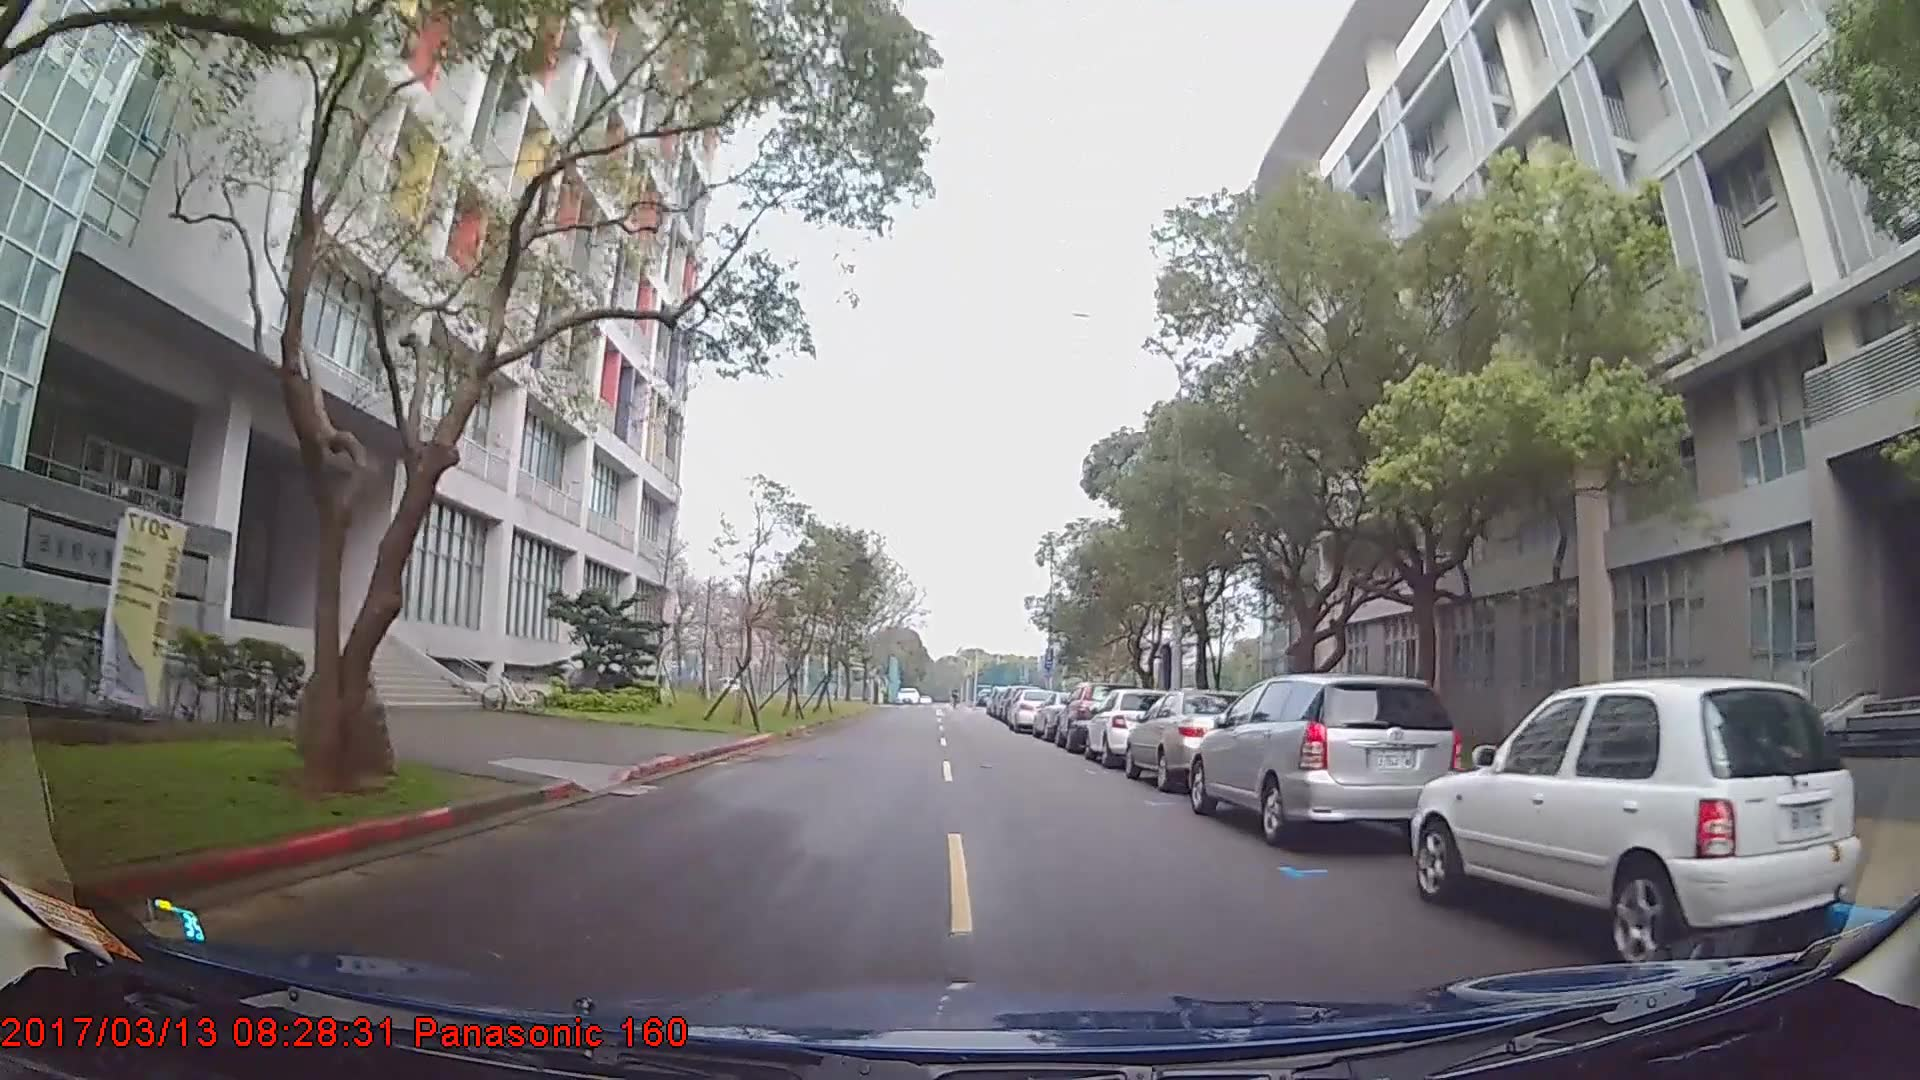vehicle: (1410, 674, 1862, 963), (1187, 673, 1462, 844), (1124, 686, 1269, 789), (1083, 684, 1171, 765), (1004, 684, 1060, 735)
